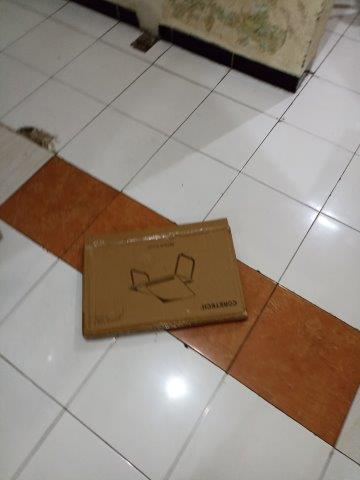kardus: (82, 219, 246, 339)
